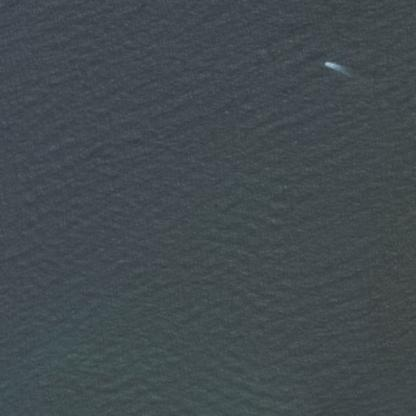ship: (322, 59, 338, 69)
